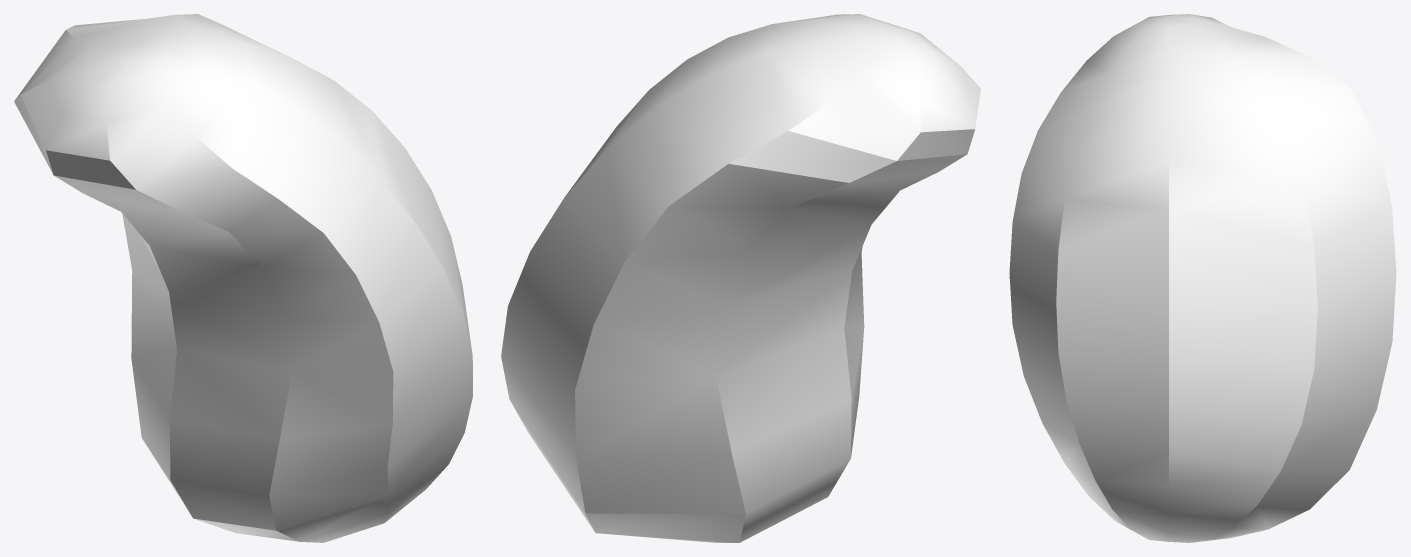
The model's file is Arm_L.obj.
3 views of the same model, side by side, from view 1: azimuth 30°, elevation 25°; view 2: azimuth 150°, elevation 25°; view 3: azimuth 270°, elevation 25° (orthographic). The views are drawn at different scales.
Visible parts, largest first — view 1: P_Arm_L; view 2: P_Arm_L; view 3: P_Arm_L.
Part boxes in pixels (x1,y1,x2,y2): P_Arm_L: (14,14,472,542); P_Arm_L: (501,14,980,542); P_Arm_L: (1009,14,1396,542).
Bounding box in the file's own units: 0.4501 × 0.5362 × 0.4305.
1 material, 1 textured.
